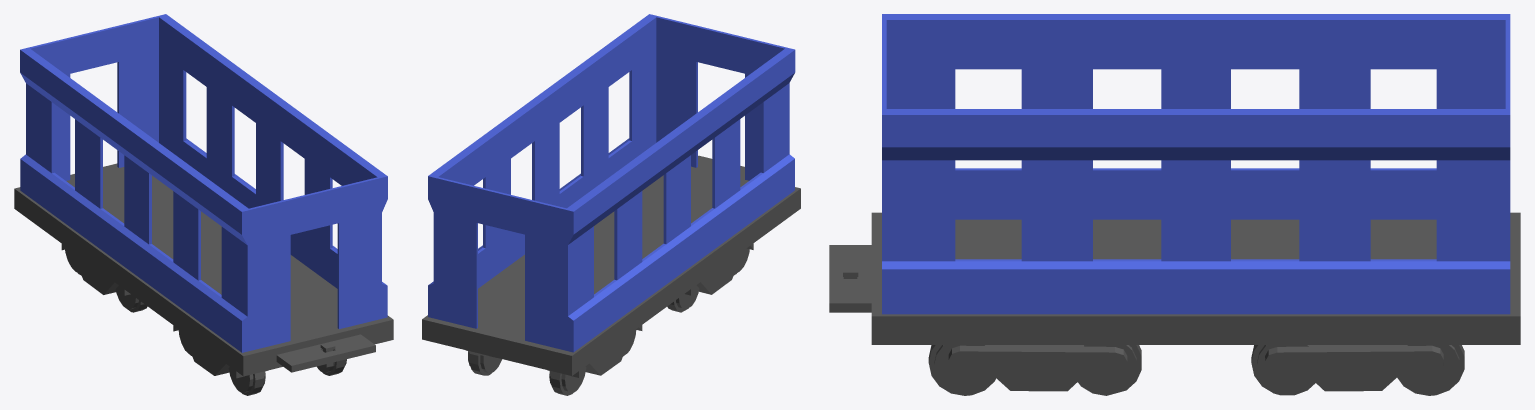
Rendered from Wagon_South.fbx.
3 renders of one model, left to right at view 1: azimuth 30°, elevation 25°; view 2: azimuth 150°, elevation 25°; view 3: azimuth 270°, elevation 25°, orthographic. The views are drawn at different scales.
Visible parts, largest first — view 1: Wagon_South; view 2: Wagon_South; view 3: Wagon_South.
Boxes of the visible parts, x1=… form: Wagon_South: x1=14, y1=14, x2=393, y2=395; Wagon_South: x1=422, y1=14, x2=800, y2=395; Wagon_South: x1=829, y1=14, x2=1520, y2=395.
Size of the model in its own units: 338 by 453 by 950.
